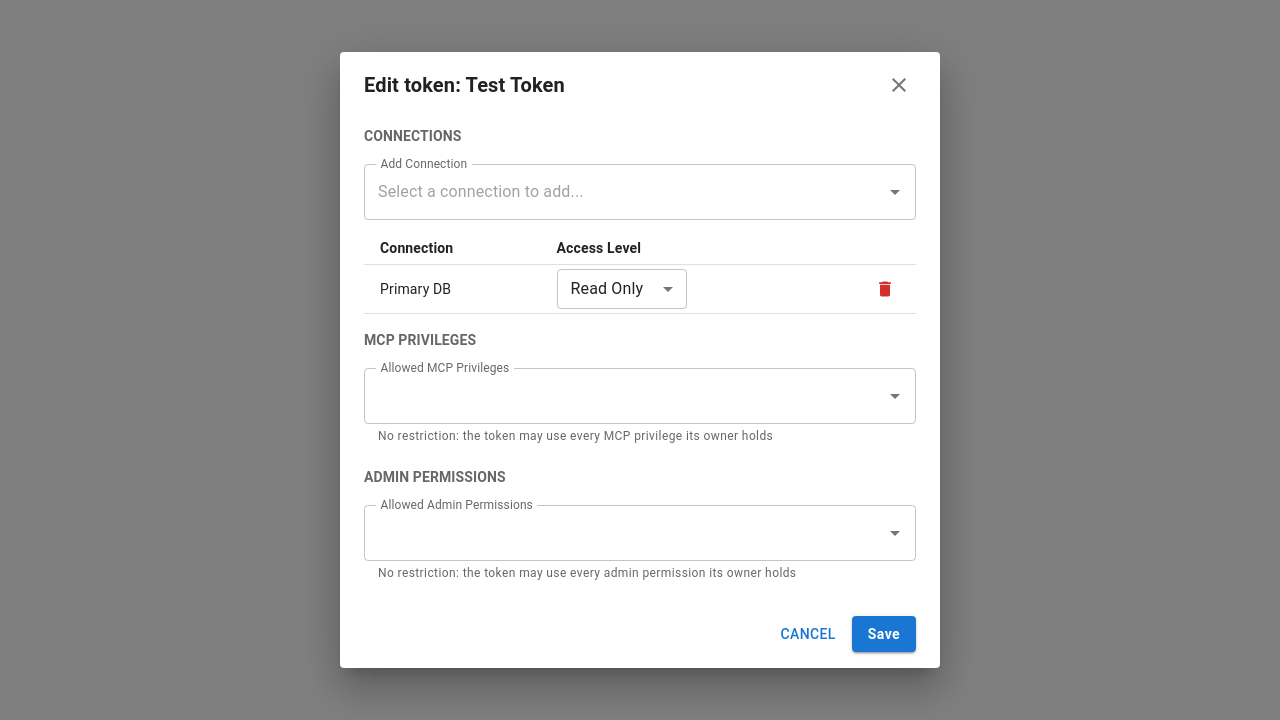
it: EditTokenDialog › filters out already selected connections from dropdown
Focus the dropdown labelled "Add Connection" at {"x": 625, "y": 192}, box [373, 173, 877, 211]
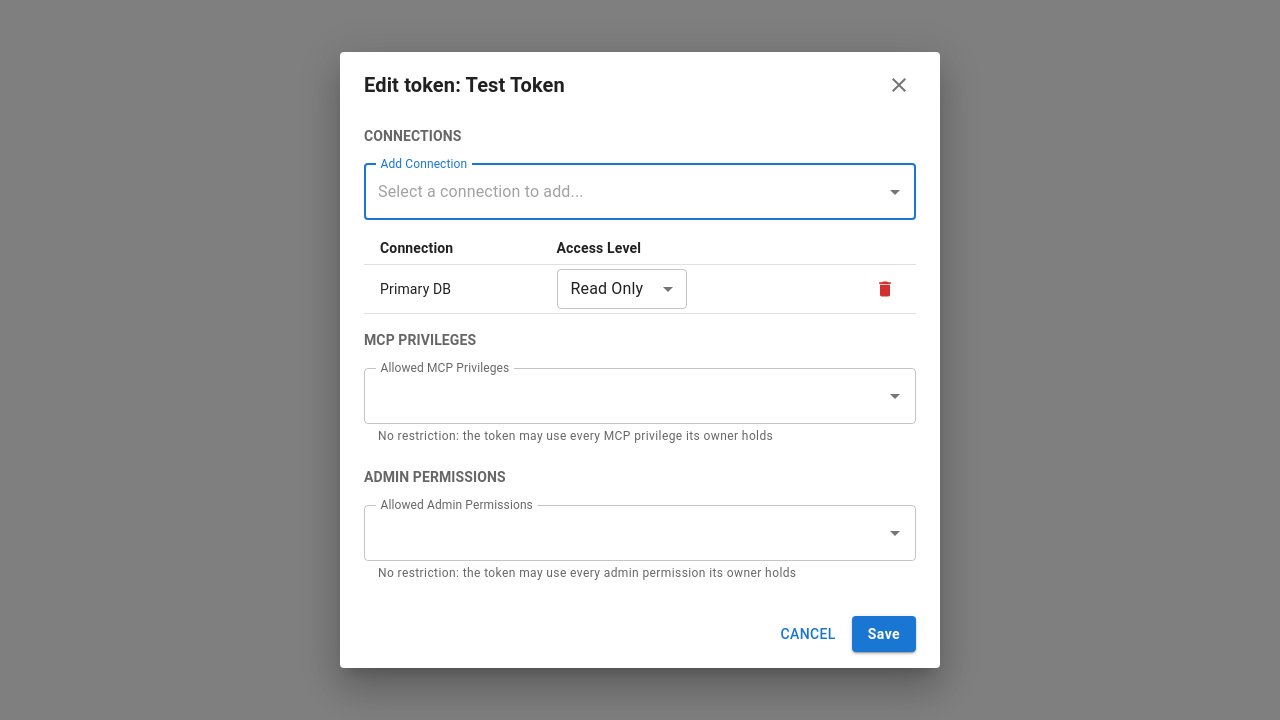
Press ArrowDown in the dropdown labelled "Add Connection", box [373, 173, 877, 211]
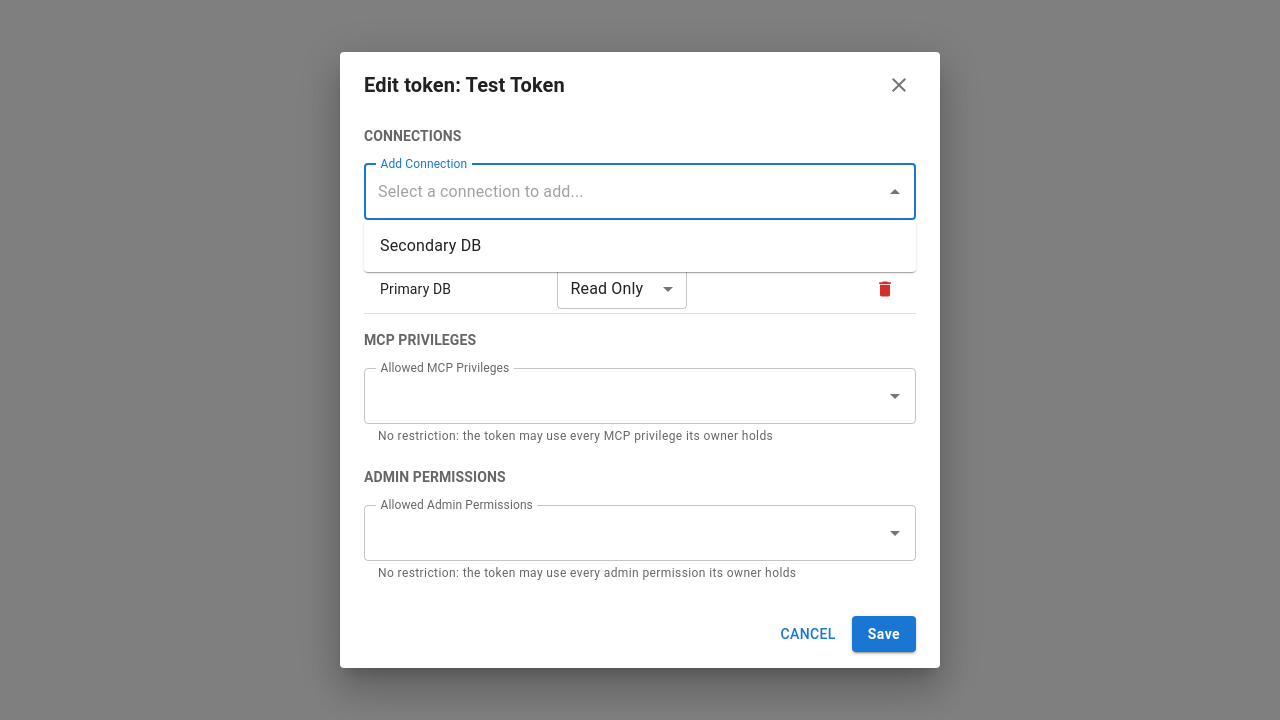
Result: the option "Secondary DB" is shown at [380, 236, 481, 255]
